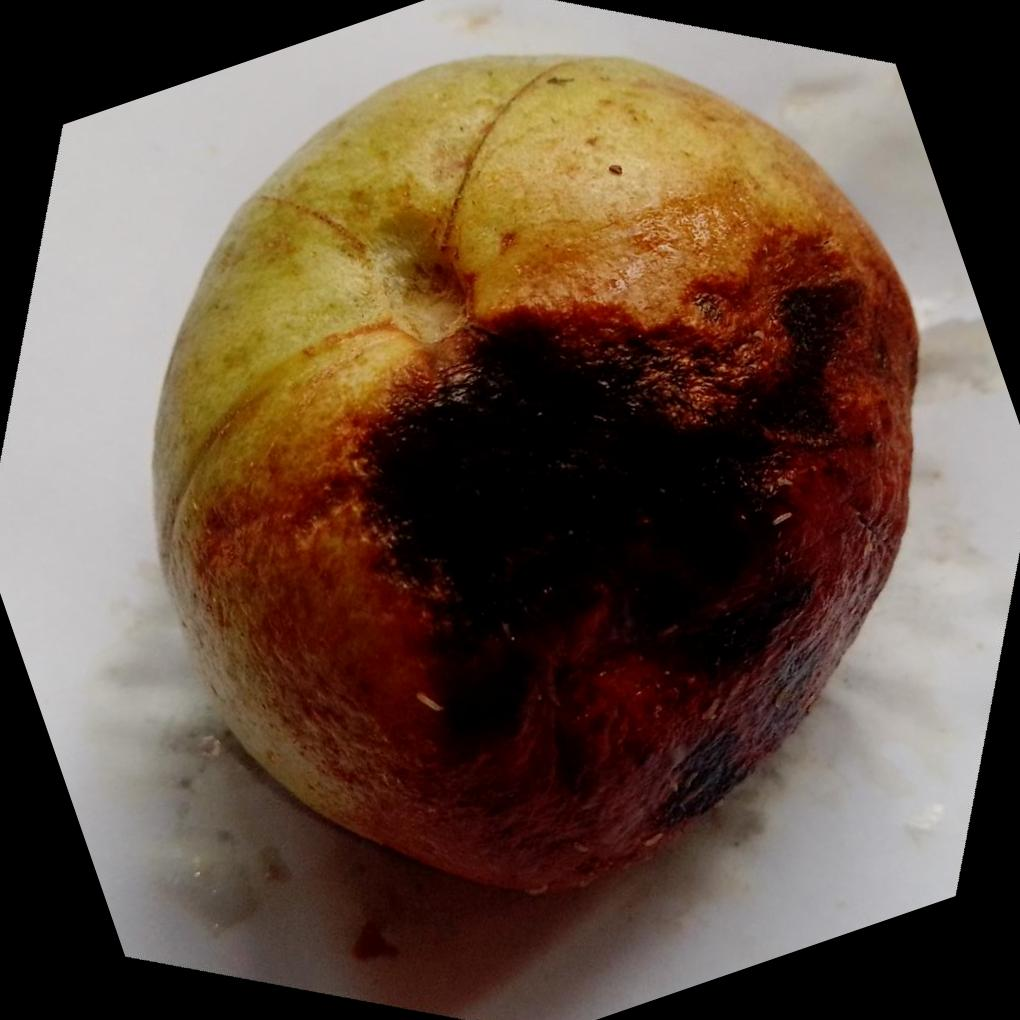FreshOrange: (146, 53, 918, 899)
